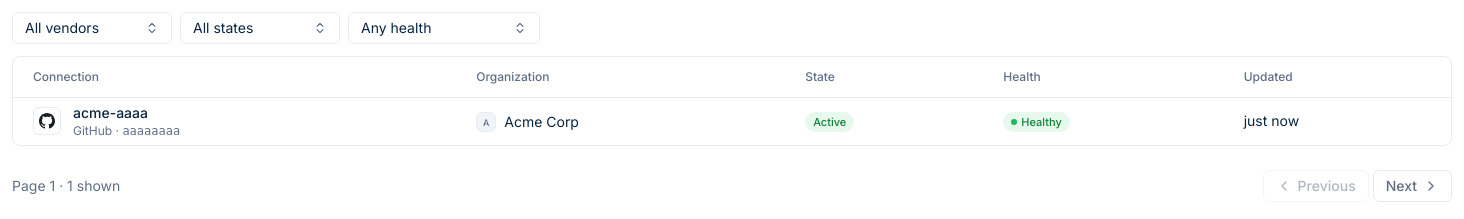
Test: <ConnectionsTable> › pages with the keyset cursor and comes back
Check: the button with aria-label "Previous page" is disabled, box [1263, 170, 1369, 202]
Click the button with aria-label "Next page". click: (1412, 186)
box: [1373, 170, 1452, 202]
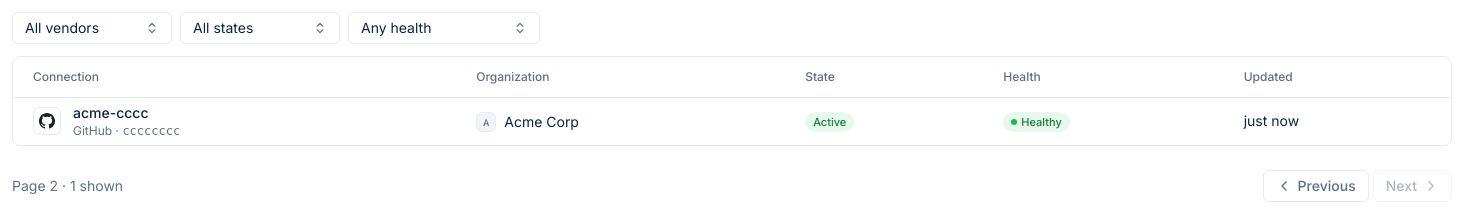
Check: the row that starts with "acme-cccc" is shown, box [33, 103, 444, 139]
Check: the text "Page 2" is shown, box [12, 176, 123, 196]
Click the button with aria-label "Previous page". click: (1316, 186)
box: [1263, 170, 1369, 202]
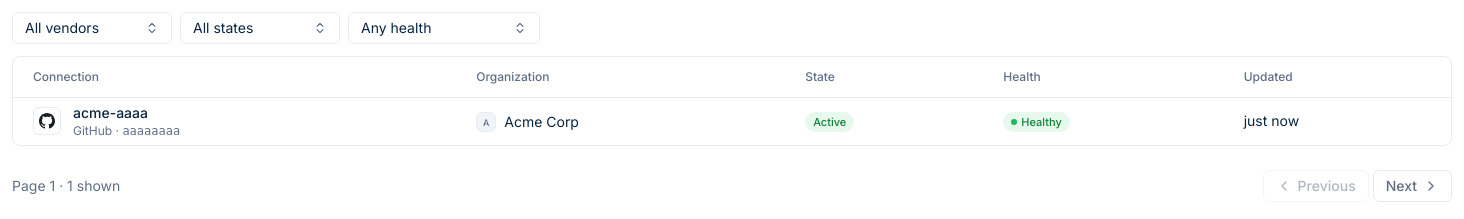
Check: the row that starts with "acme-aaaa" is shown, box [33, 103, 444, 139]
